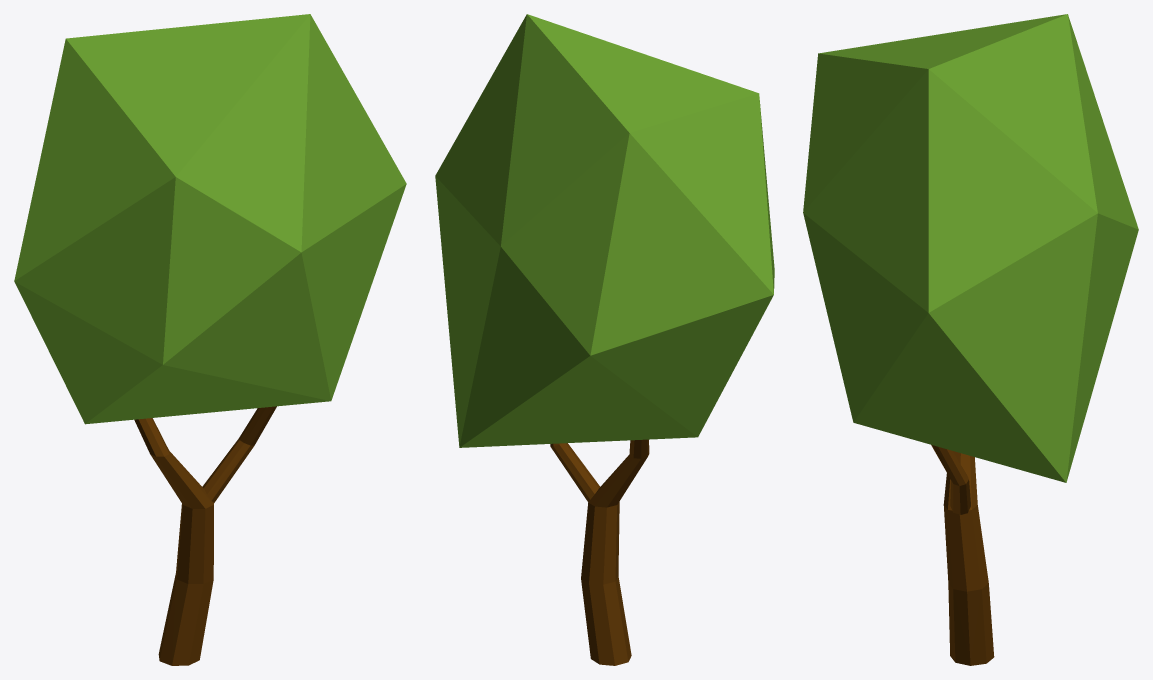
File: Tree11.fbx
The picture shows the model from 3 angles, left to right: view 1: azimuth 30°, elevation 25°; view 2: azimuth 150°, elevation 25°; view 3: azimuth 270°, elevation 25°; orthographic projection. The views are drawn at different scales.
Parts seen in each view (by area): view 1: Tree11; view 2: Tree11; view 3: Tree11.
Part boxes in pixels (x1,y1,x2,y2): Tree11: (14, 14, 406, 665); Tree11: (435, 14, 774, 665); Tree11: (803, 14, 1138, 665).
Size of the model in its own units: 180 by 291 by 138.
